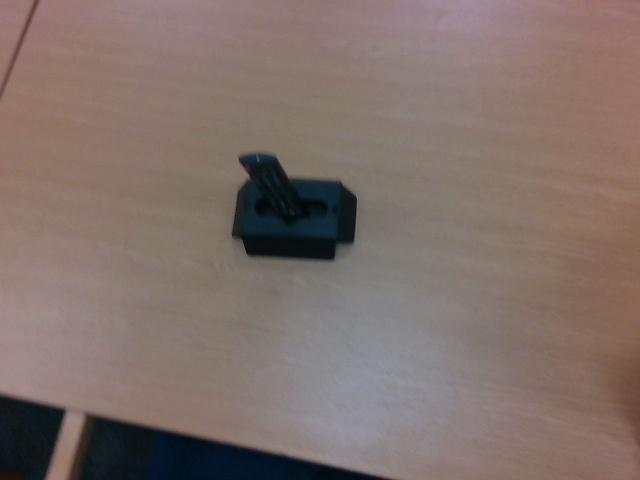remote: (236, 153, 308, 219)
